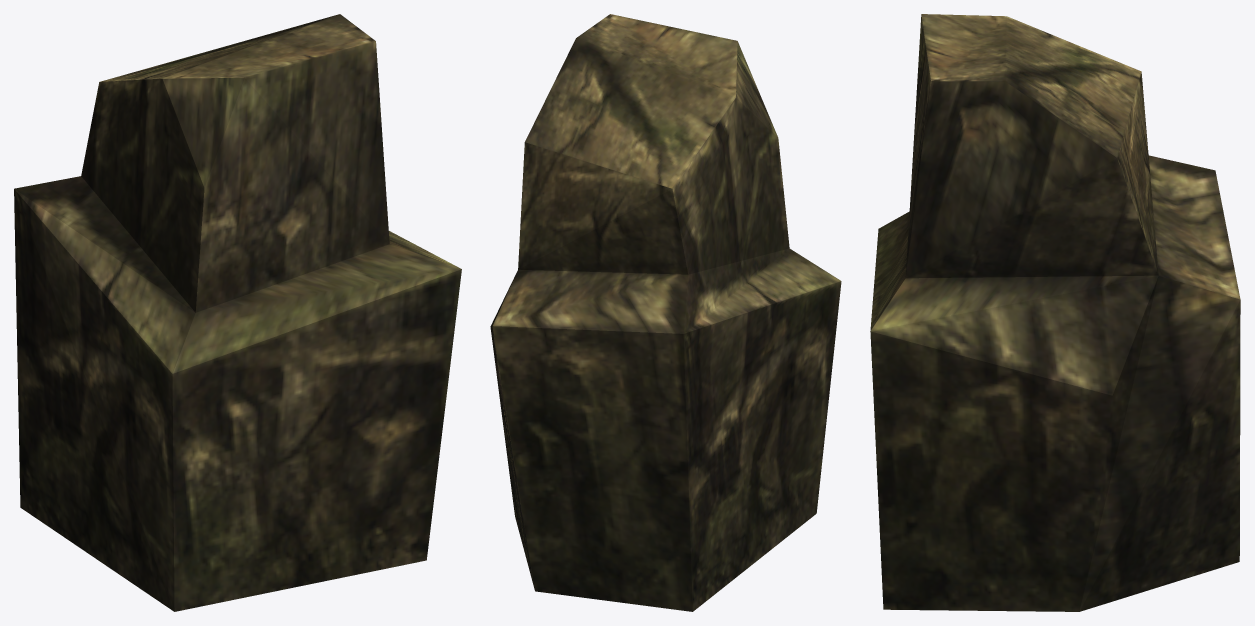
Rendered from ts_yxobj006.FBX.
3 views of the same model, side by side, from view 1: azimuth 30°, elevation 25°; view 2: azimuth 150°, elevation 25°; view 3: azimuth 270°, elevation 25° (orthographic). The views are drawn at different scales.
Parts seen in each view (by area): view 1: ts_yxobj006; view 2: ts_yxobj006; view 3: ts_yxobj006.
Part boxes in pixels (x1,y1,x2,y2): ts_yxobj006: (14,14,461,611); ts_yxobj006: (490,14,841,611); ts_yxobj006: (870,14,1240,611).
Bounding box in the file's own units: 3.56 × 6.06 × 3.95.
